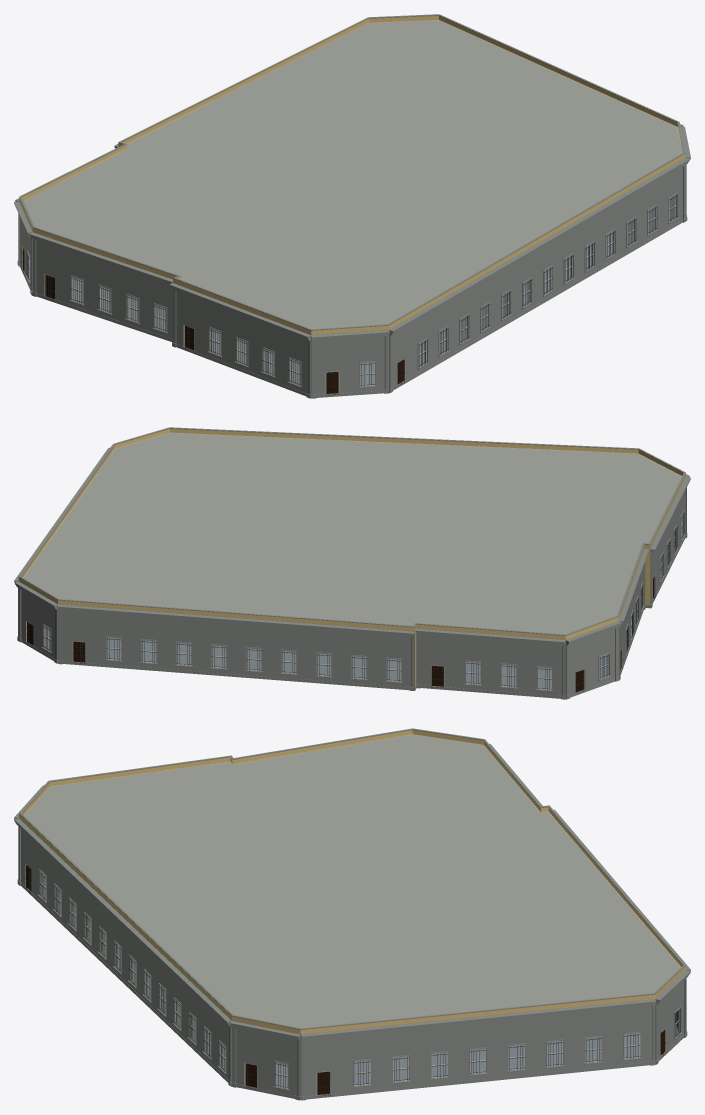
File: building.glb
3 renders of one model, top to bottom at view 1: azimuth 30°, elevation 25°; view 2: azimuth 150°, elevation 25°; view 3: azimuth 270°, elevation 25°, orthographic. The views are drawn at different scales.
Parts seen in each view (by area): view 1: roof/main:0/roof_slab#0001, main:0/edge4/z0/main:0/edge4/z0/coating_0_0_0, roof/main:0/parapet#0001, main:0/edge0/z0/main:0/edge0/z0/coating_0_0_0, main:0/edge2/z0/main:0/edge2/z0/coating_0_0_0, main:0/edge3/z0/main:0/edge3/z0/coating_0_0_0, roof/main:0/parapet_cap#0002, roof/main:0/parapet_cap#0001, main:0/edge4/z0/proj_cornice_02/cornice_drip#0001, main:0/edge4/z0/plinth#0001, main:0/edge2/z0/proj_cornice_02/cornice_drip#0001; view 2: roof/main:0/roof_slab#0001, main:0/edge8/z0/main:0/edge8/z0/coating_0_0_0, roof/main:0/parapet#0001, main:0/edge10/z0/main:0/edge10/z0/coating_0_0_0, roof/main:0/parapet_cap#0002, main:0/edge11/z0/main:0/edge11/z0/coating_0_0_0, roof/main:0/parapet_cap#0001, main:0/edge7/z0/main:0/edge7/z0/coating_0_0_0, main:0/edge8/z0/plinth#0001, main:0/edge2/z0/main:0/edge2/z0/coating_0_0_0, main:0/edge8/z0/proj_cornice_02/cornice_drip#0001, main:0/edge0/z0/main:0/edge0/z0/coating_0_0_0 (+7 smaller); view 3: roof/main:0/roof_slab#0001, main:0/edge6/z0/main:0/edge6/z0/coating_0_0_0, main:0/edge4/z0/main:0/edge4/z0/coating_0_0_0, roof/main:0/parapet#0001, roof/main:0/parapet_cap#0002, main:0/edge5/z0/main:0/edge5/z0/coating_0_0_0, roof/main:0/parapet_cap#0001, main:0/edge4/z0/proj_cornice_02/cornice_drip#0001, main:0/edge6/z0/plinth#0001, main:0/edge6/z0/proj_cornice_02/cornice_drip#0001, main:0/edge7/z0/main:0/edge7/z0/coating_0_0_0, main:0/edge4/z0/plinth#0001 (+3 smaller).
Boxes of the visible parts, box(x1,y1,x2,y2) form: roof/main:0/roof_slab#0001: box(23, 20, 682, 329); main:0/edge4/z0/main:0/edge4/z0/coating_0_0_0: box(389, 161, 682, 388); roof/main:0/parapet#0001: box(19, 16, 685, 335); main:0/edge0/z0/main:0/edge0/z0/coating_0_0_0: box(36, 238, 172, 338); main:0/edge2/z0/main:0/edge2/z0/coating_0_0_0: box(176, 290, 311, 394); main:0/edge3/z0/main:0/edge3/z0/coating_0_0_0: box(311, 330, 388, 394); roof/main:0/parapet_cap#0002: box(19, 14, 685, 330); roof/main:0/parapet_cap#0001: box(19, 15, 685, 330); main:0/edge4/z0/proj_cornice_02/cornice_drip#0001: box(389, 158, 689, 331); main:0/edge4/z0/plinth#0001: box(389, 219, 682, 392); main:0/edge2/z0/proj_cornice_02/cornice_drip#0001: box(169, 283, 311, 337); roof/main:0/roof_slab#0001: box(23, 432, 681, 634); main:0/edge8/z0/main:0/edge8/z0/coating_0_0_0: box(58, 604, 414, 687); roof/main:0/parapet#0001: box(18, 429, 685, 639); main:0/edge10/z0/main:0/edge10/z0/coating_0_0_0: box(416, 628, 565, 695); roof/main:0/parapet_cap#0002: box(19, 427, 685, 635); main:0/edge11/z0/main:0/edge11/z0/coating_0_0_0: box(566, 623, 615, 695); roof/main:0/parapet_cap#0001: box(19, 428, 685, 635); main:0/edge7/z0/main:0/edge7/z0/coating_0_0_0: box(21, 585, 57, 659); main:0/edge8/z0/plinth#0001: box(62, 661, 409, 690); main:0/edge2/z0/main:0/edge2/z0/coating_0_0_0: box(650, 491, 685, 601); main:0/edge8/z0/proj_cornice_02/cornice_drip#0001: box(57, 604, 414, 634); main:0/edge0/z0/main:0/edge0/z0/coating_0_0_0: box(620, 566, 643, 671); roof/main:0/roof_slab#0001: box(24, 734, 680, 1028); main:0/edge6/z0/main:0/edge6/z0/coating_0_0_0: box(300, 999, 655, 1096); main:0/edge4/z0/main:0/edge4/z0/coating_0_0_0: box(21, 821, 231, 1081); roof/main:0/parapet#0001: box(19, 730, 685, 1034); roof/main:0/parapet_cap#0002: box(19, 728, 685, 1029); main:0/edge5/z0/main:0/edge5/z0/coating_0_0_0: box(233, 1021, 300, 1095); roof/main:0/parapet_cap#0001: box(19, 729, 685, 1029); main:0/edge4/z0/proj_cornice_02/cornice_drip#0001: box(14, 818, 231, 1022); main:0/edge6/z0/plinth#0001: box(300, 1062, 649, 1099); main:0/edge6/z0/proj_cornice_02/cornice_drip#0001: box(301, 999, 656, 1037); main:0/edge7/z0/main:0/edge7/z0/coating_0_0_0: box(655, 972, 683, 1058); main:0/edge4/z0/plinth#0001: box(21, 883, 228, 1082).
Bounding box in the file's own units: 59.02 × 6.37 × 55.28.
Materials: 7 (1 with a texture image).
